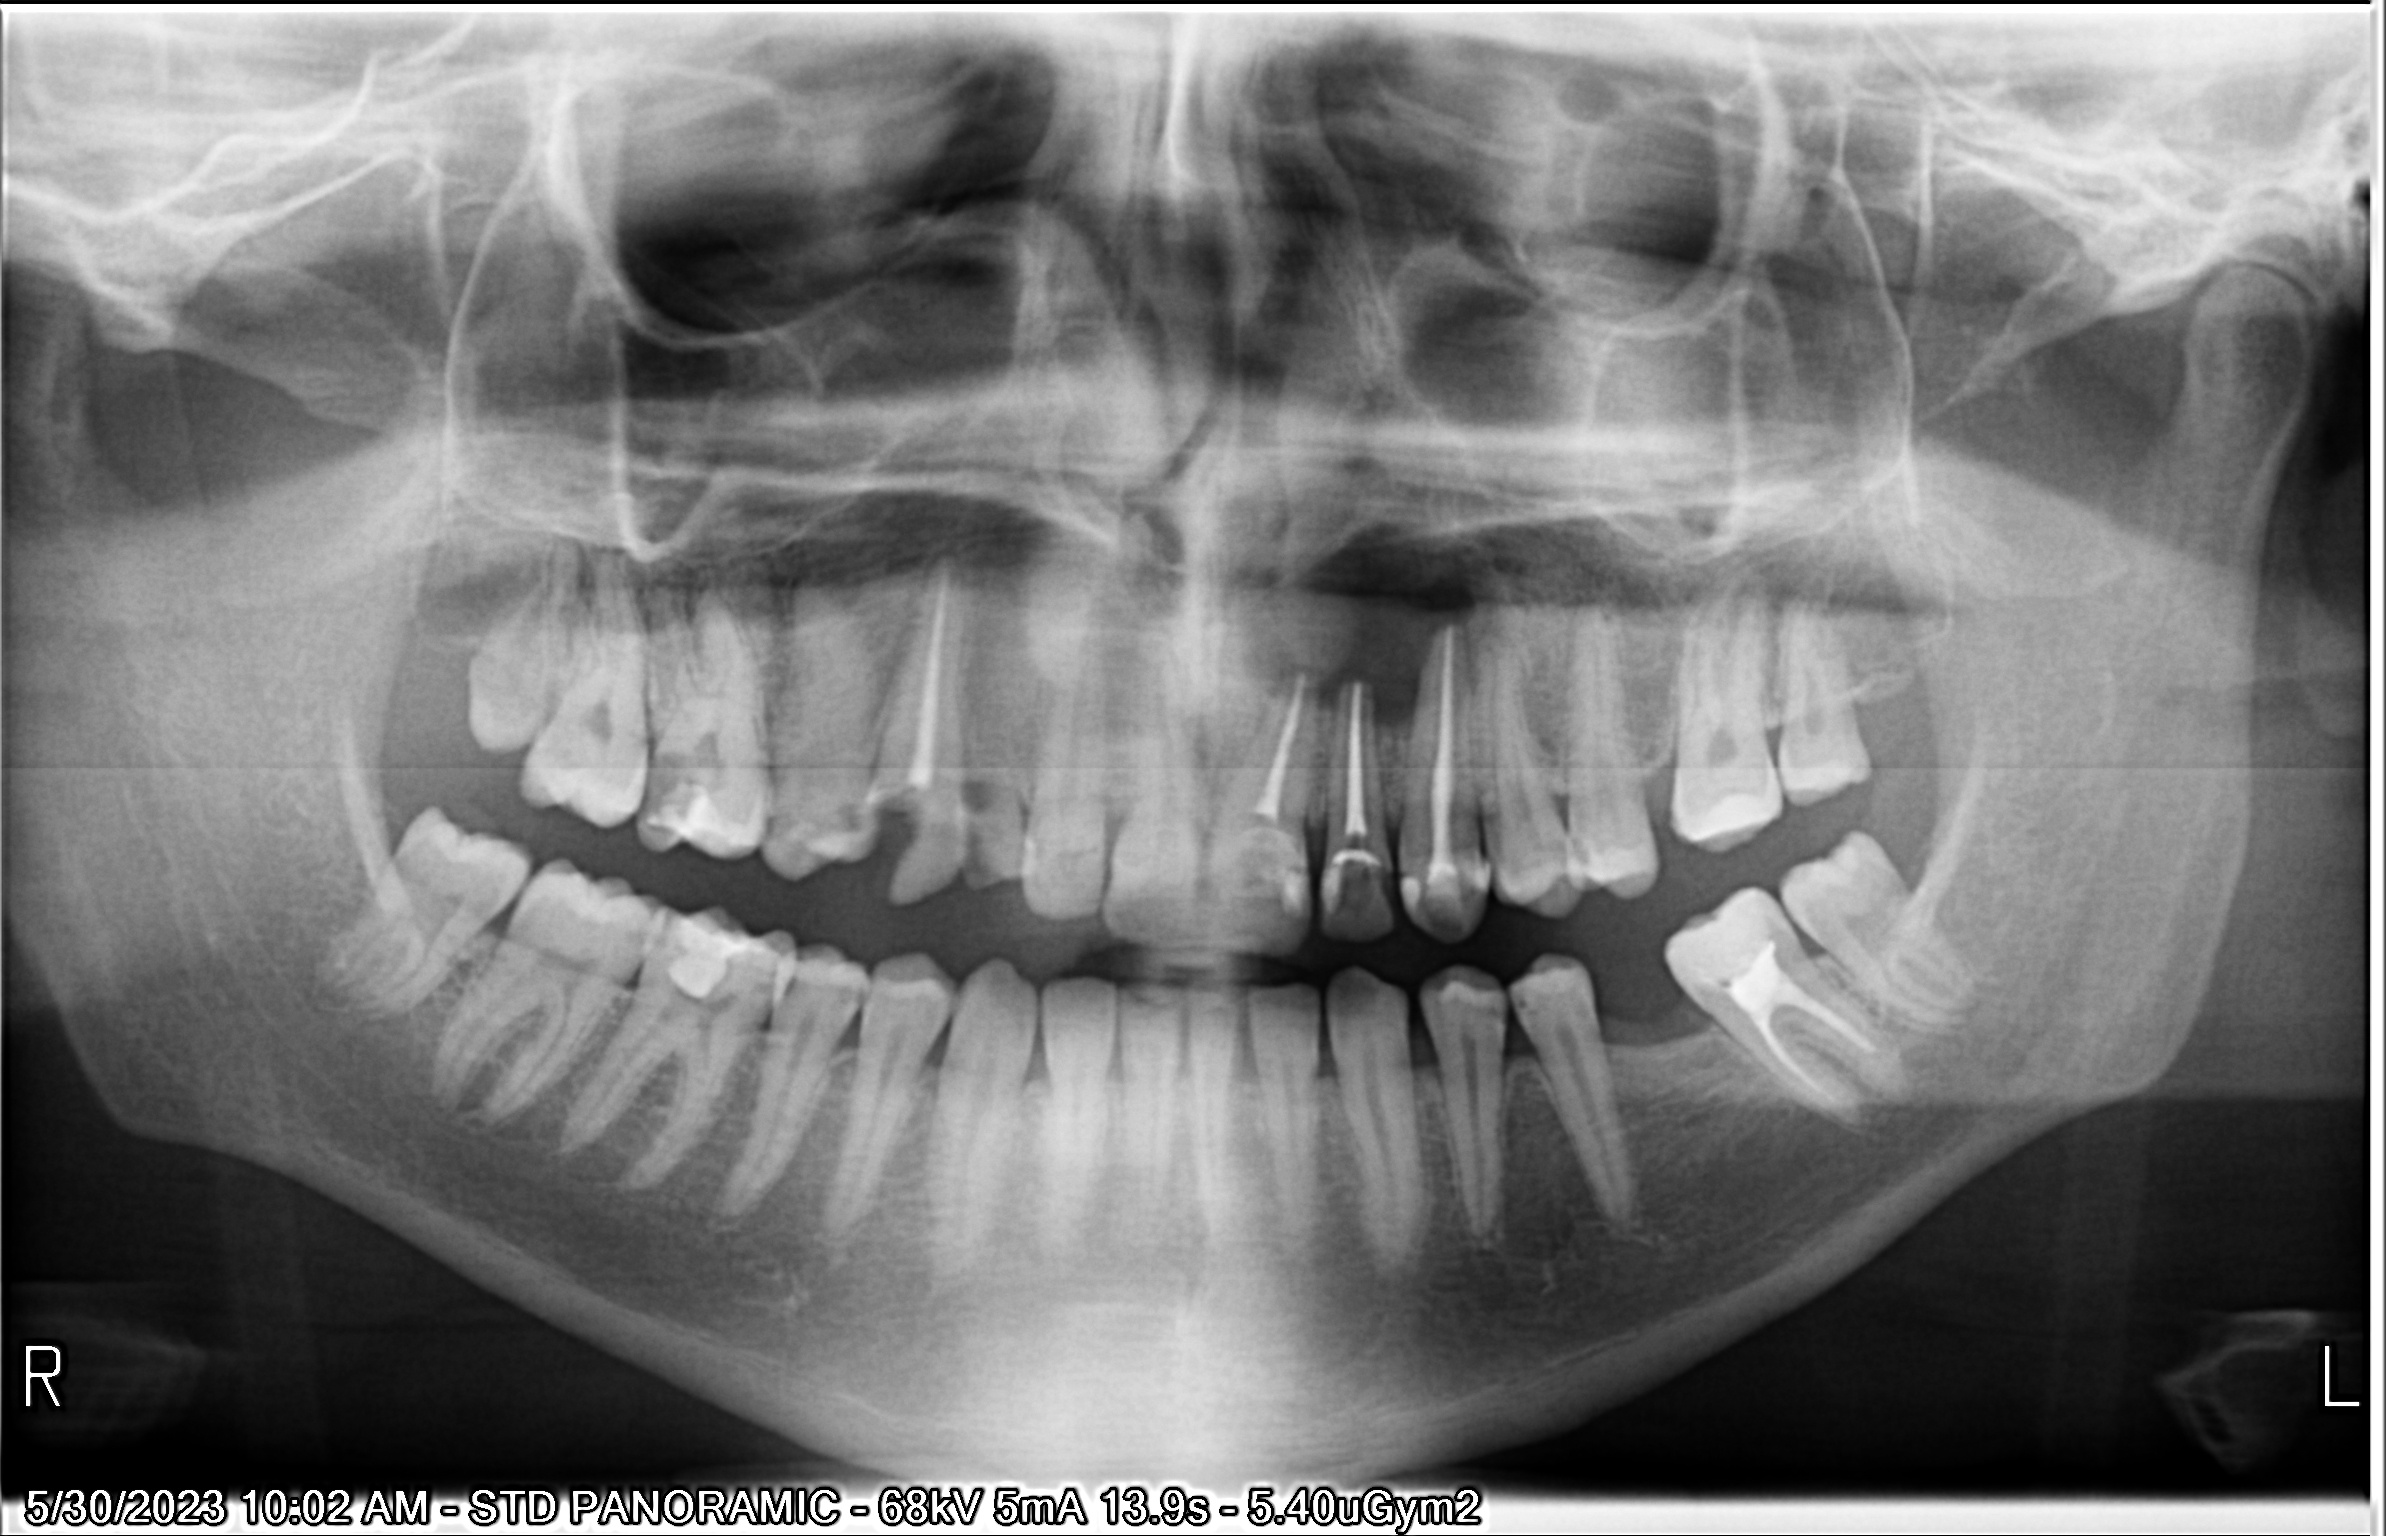API: (1254, 569, 1496, 717)
CAR: (864, 790, 925, 903), (638, 750, 710, 837), (958, 788, 1003, 878), (1560, 837, 1609, 896), (828, 809, 864, 852), (1515, 972, 1543, 1016), (779, 974, 814, 1007), (654, 912, 671, 972), (628, 913, 643, 950), (1485, 988, 1499, 1025)
END: (1743, 1009, 1854, 1138), (1419, 602, 1473, 866), (1783, 985, 1903, 1094), (904, 557, 951, 807), (1339, 661, 1390, 859), (1250, 652, 1306, 825)
OBT: (1670, 894, 1788, 1002), (1212, 833, 1285, 943), (1320, 858, 1379, 932), (1423, 873, 1487, 934), (1689, 788, 1772, 831), (676, 925, 739, 983), (1276, 859, 1316, 929)
